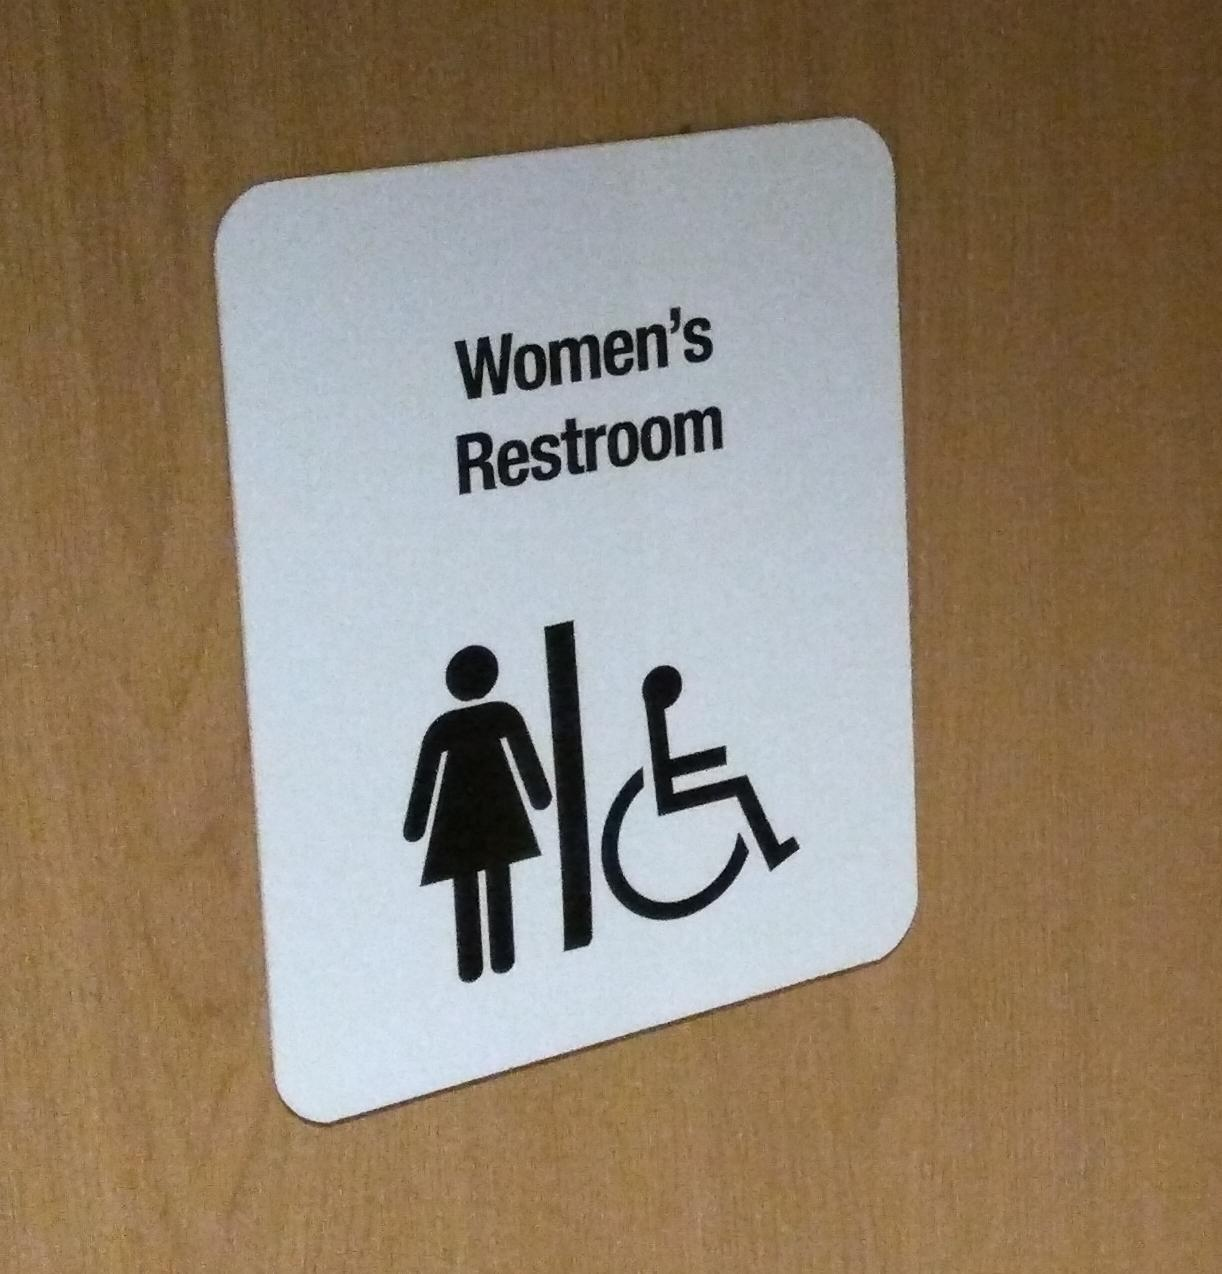sign: (216, 119, 916, 1123)
